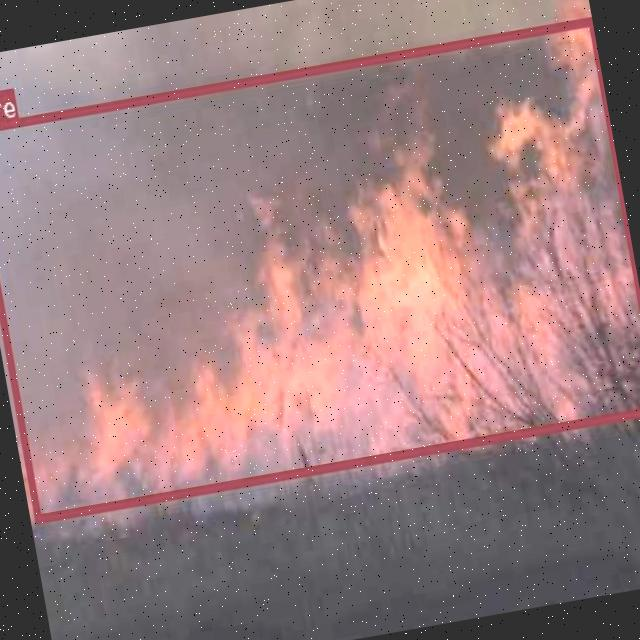fire: (0, 17, 640, 522)
